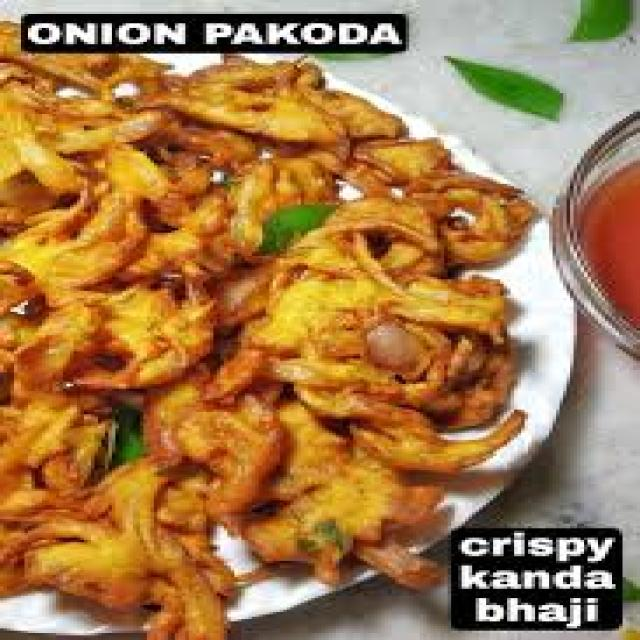BAJI: (0, 25, 533, 625)
